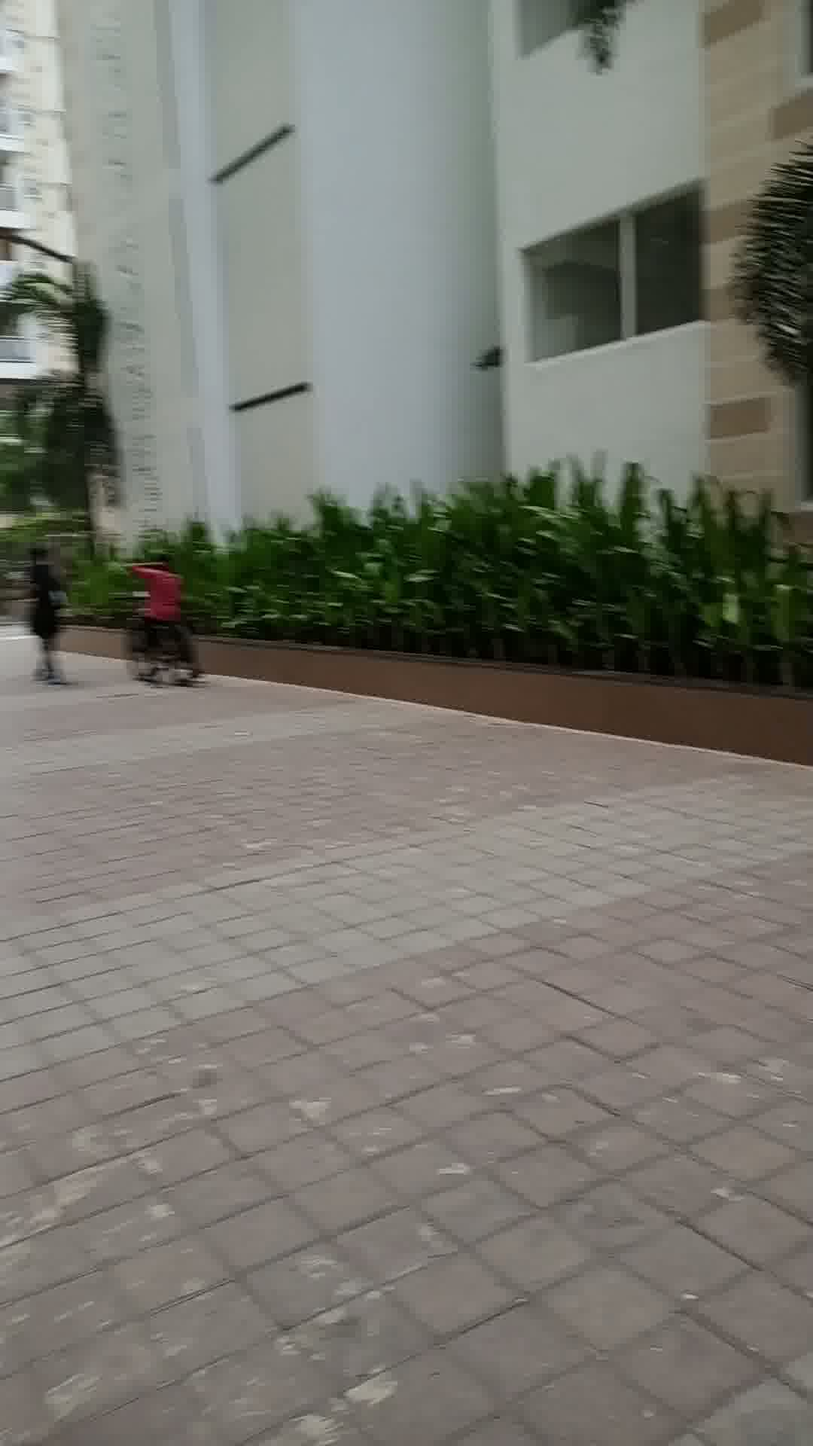person: (114, 512, 202, 712), (3, 527, 77, 689)
tree: (0, 250, 131, 609)
